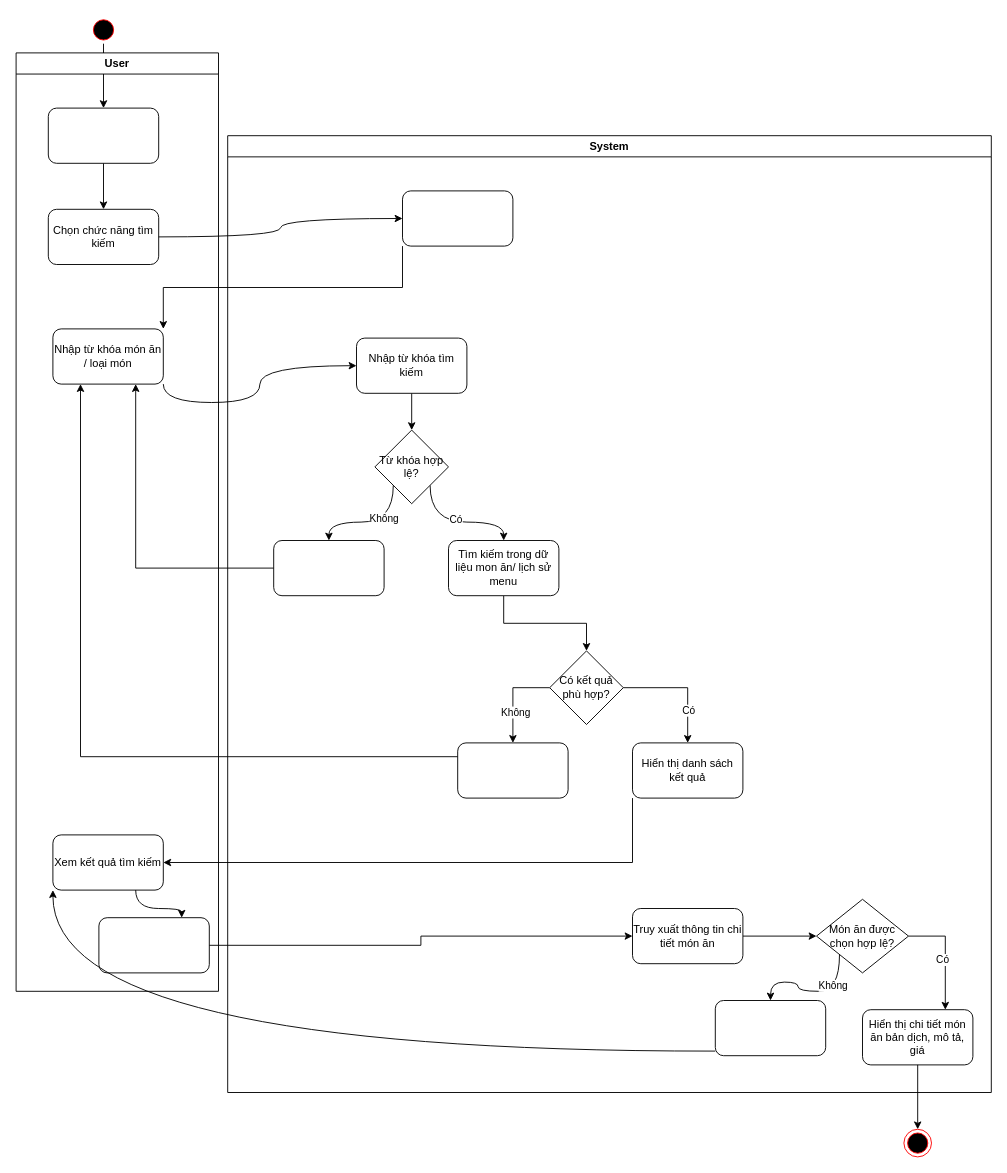
Image size: 1007x1173. Some labels were removed from this diagram. Each missing label, with the centre of its shape:
"Chọn món ăn để xem chi tiết" goes at (x=153, y=945).
"Hiển thị ô tìm kiếm" goes at (x=457, y=218).
"Mở ứng dụng" goes at (x=103, y=135).
"Thông báo không tìm thấy kết quả" goes at (x=512, y=770).
"Thông báo lỗi chọn món" goes at (x=770, y=1028).
"Thông báo từ khóa không hợp lệ" goes at (x=328, y=568).
